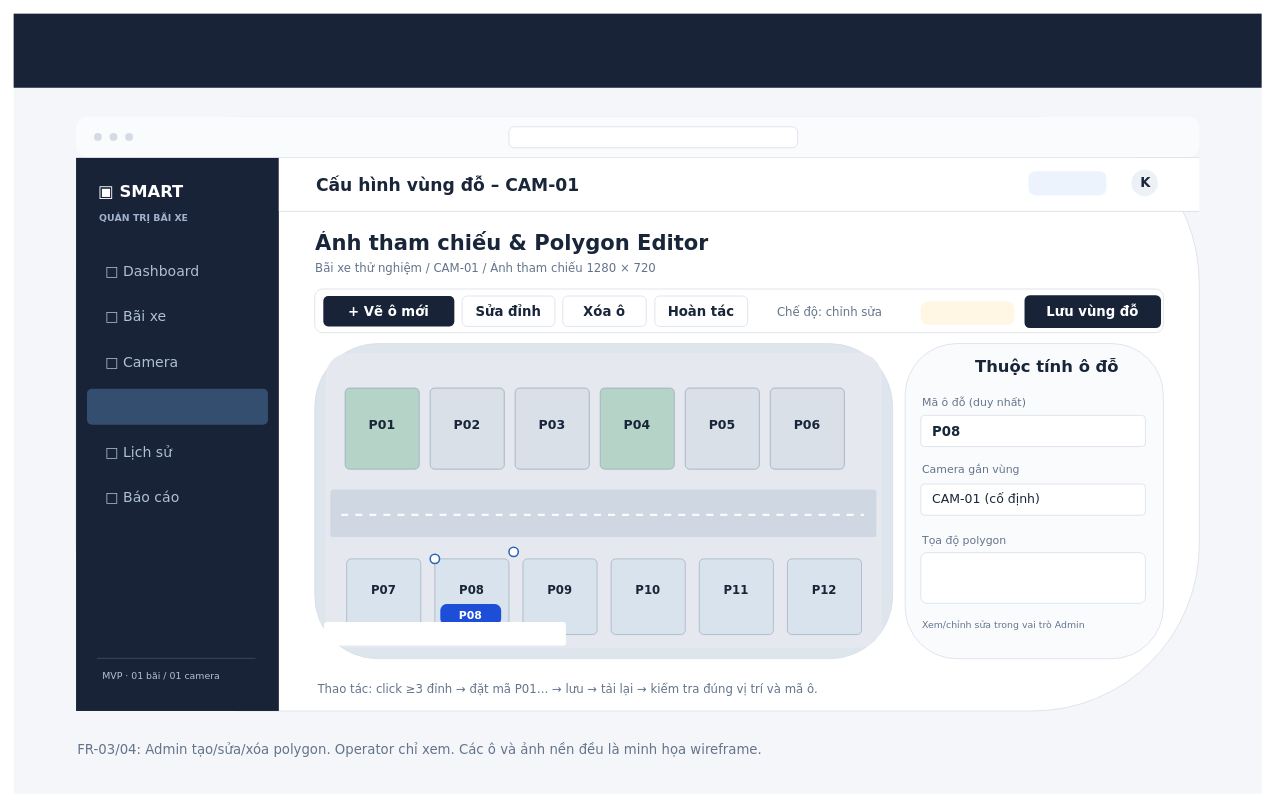
Image size: 1275x807. Some labels were removed from this diagram. The centre of each missing label's shape, as x and y in pixels:
4 đỉnh · lưu chuẩn hóa 0–1 Theo kích thước ảnh tham chiếu: point 1032,577
ADMIN: point 1067,183
ai-smart-parking.local / polygon-editor: point 653,137
CHƯA LƯU: point 967,312
□ Vẽ ô đỗ: point 177,406
● Điểm điều khiển • Kéo để sửa: point 445,633
